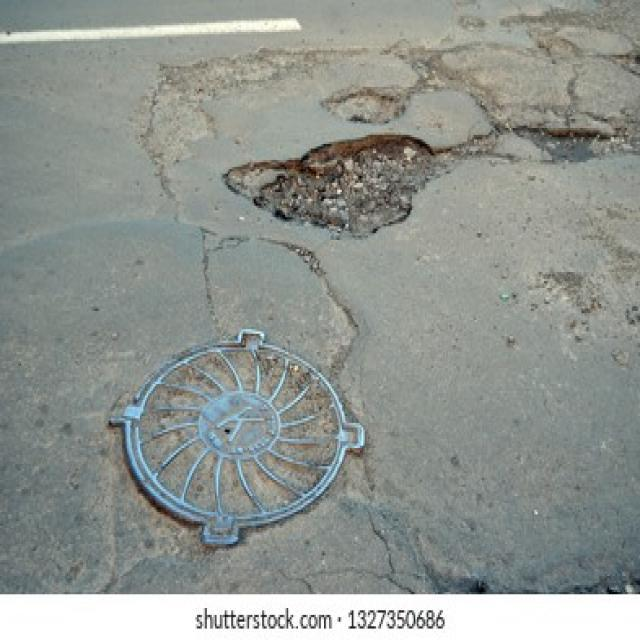Pothole: (223, 132, 432, 240), (486, 123, 614, 167), (319, 87, 414, 126)
